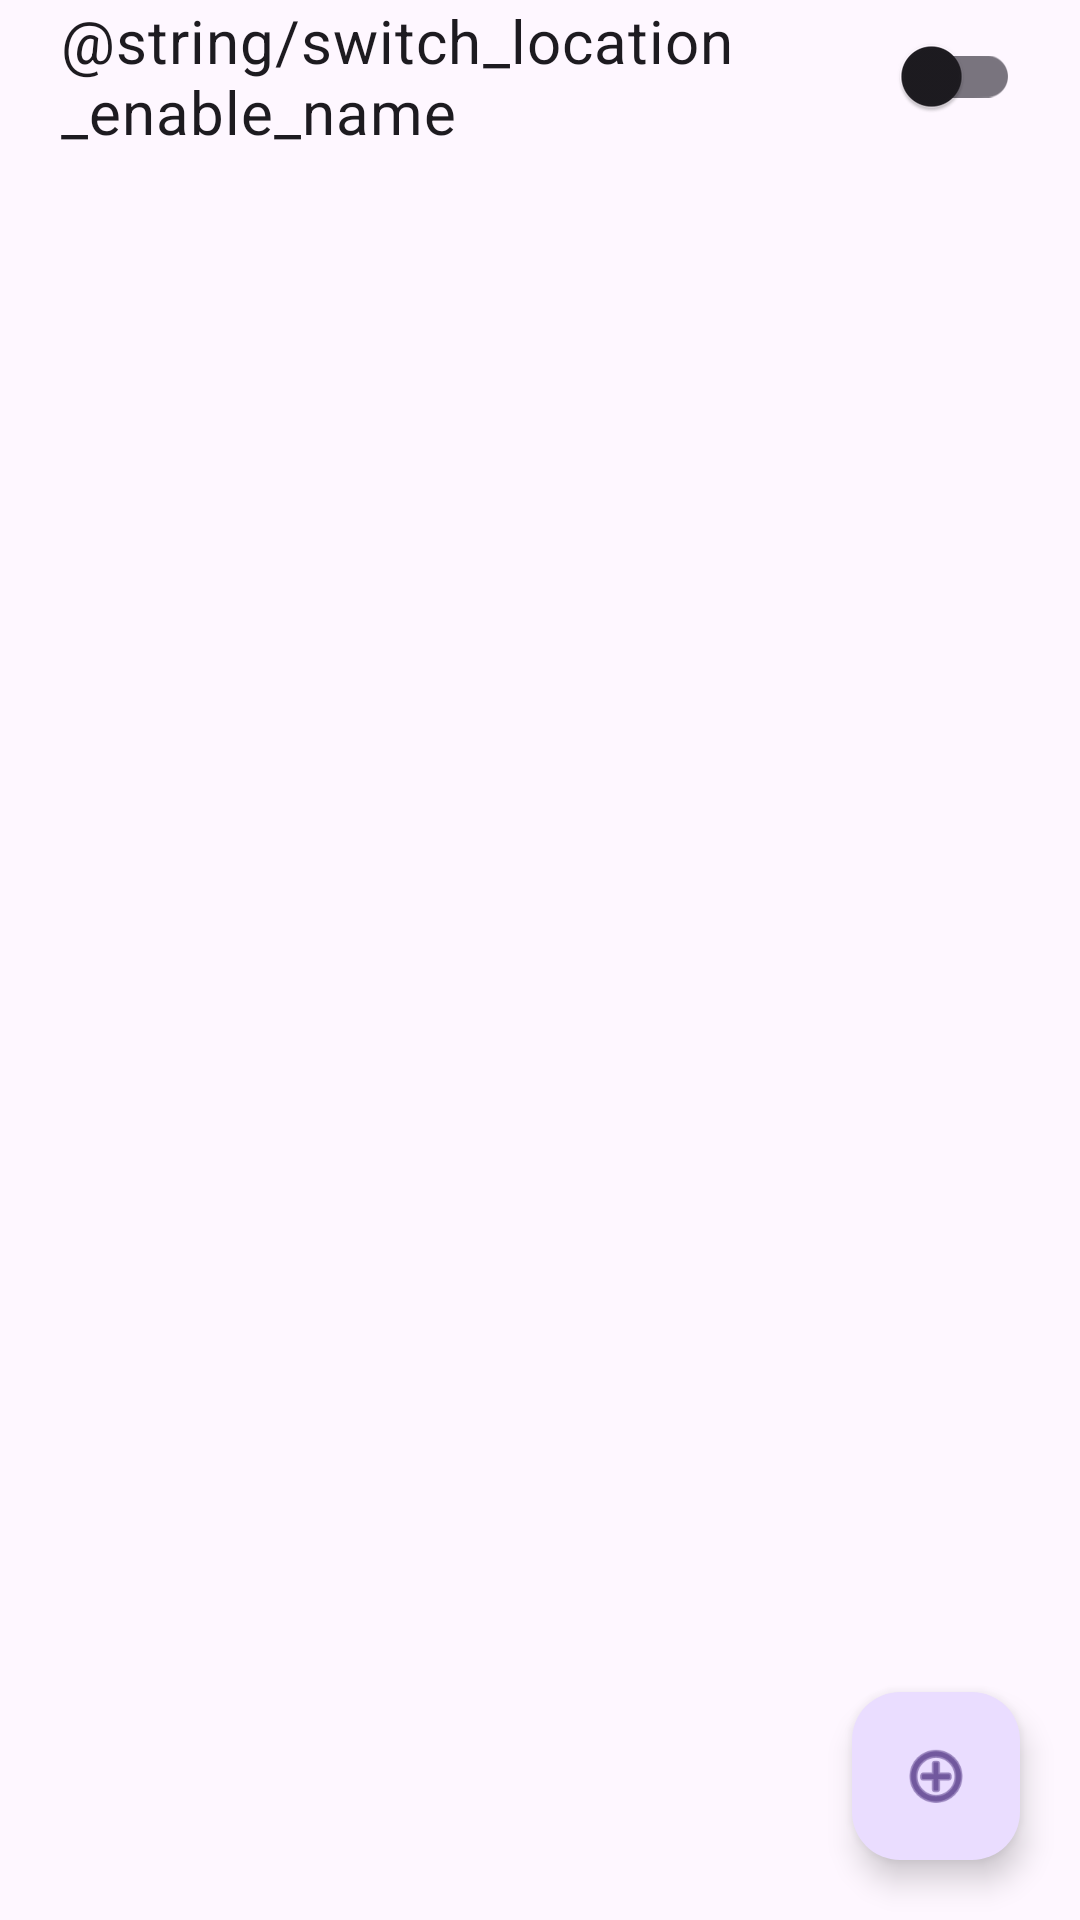

Locate icon controls on the screen. Image size 1080 × 1920, boxes as (x1,y1,x2,y2).
Click to add a new location: (852,1692,1020,1860)
